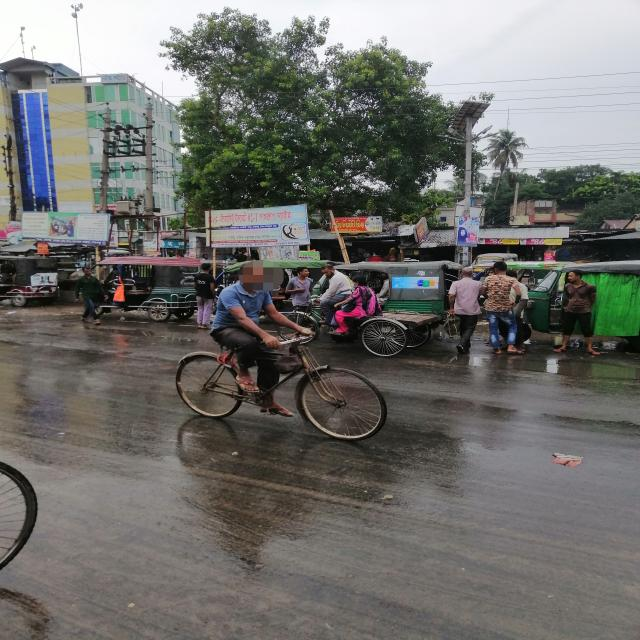Bicycle: (173, 318, 388, 444)
